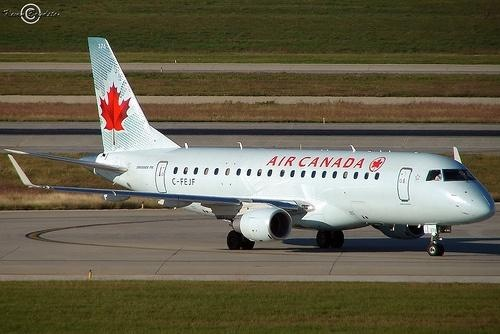aeroplane: (5, 36, 495, 256)
